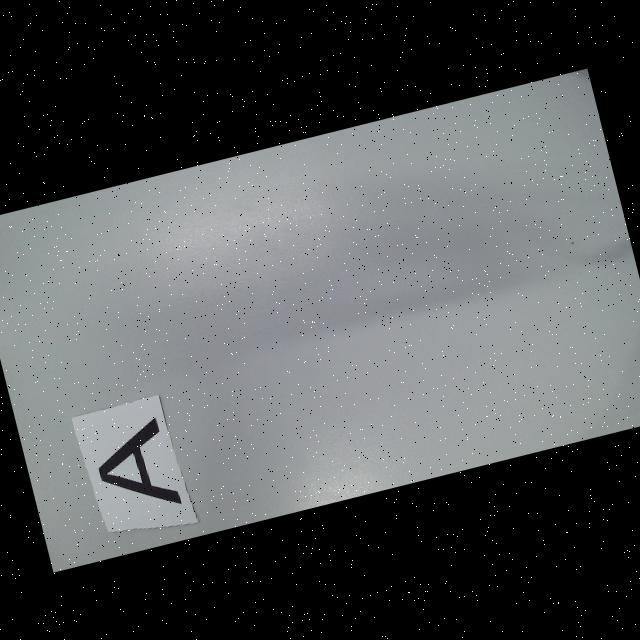FAKE: (88, 414, 182, 520)
